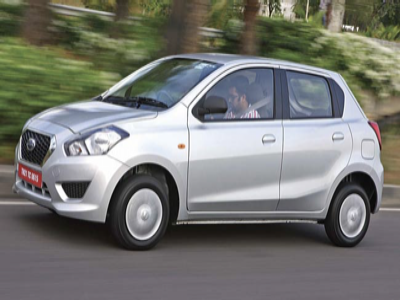licence: (18, 166, 48, 187)
